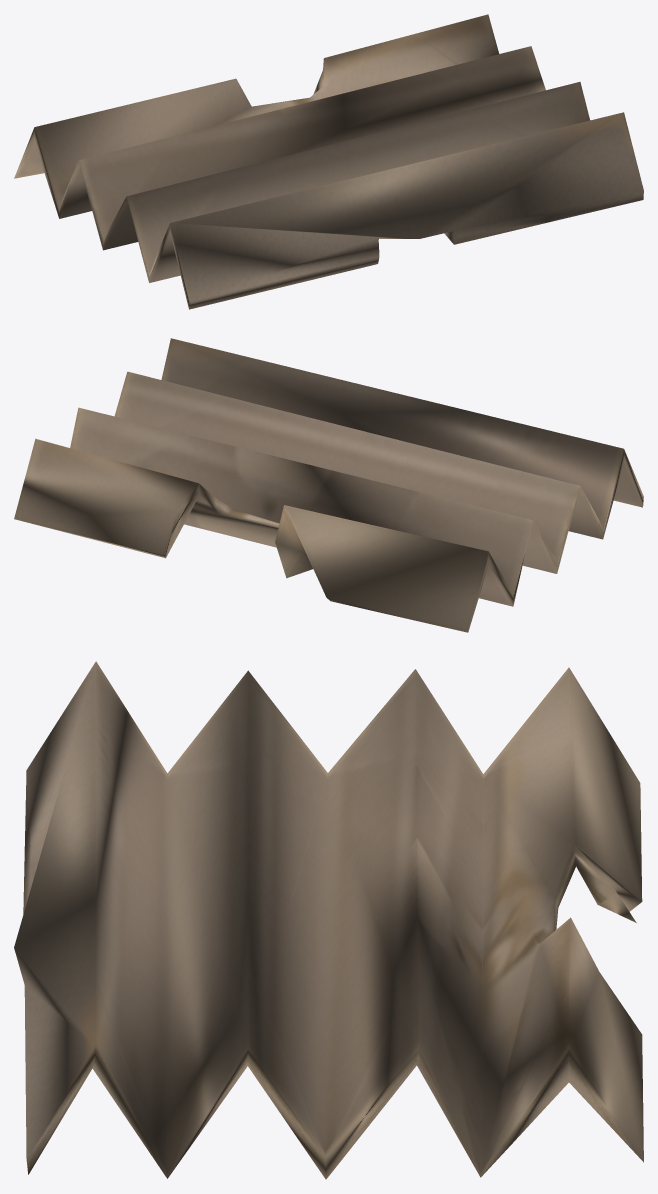
The model's file is Meshy_AI_Corrugated_Metal_Shee_0831080519_texture.fbx.
The picture shows the model from 3 angles, top to bottom: view 1: azimuth 30°, elevation 25°; view 2: azimuth 150°, elevation 25°; view 3: azimuth 270°, elevation 25°; orthographic projection. The views are drawn at different scales.
Visible parts, largest first — view 1: mesh_node; view 2: mesh_node; view 3: mesh_node.
Boxes of the visible parts, box(x1,y1,x2,y2) form: mesh_node: box(14, 14, 643, 309); mesh_node: box(14, 338, 643, 632); mesh_node: box(14, 661, 643, 1179).
Bounding box in the file's own units: 100 × 16.26 × 68.95.
Materials: 1 (1 with a texture image).
